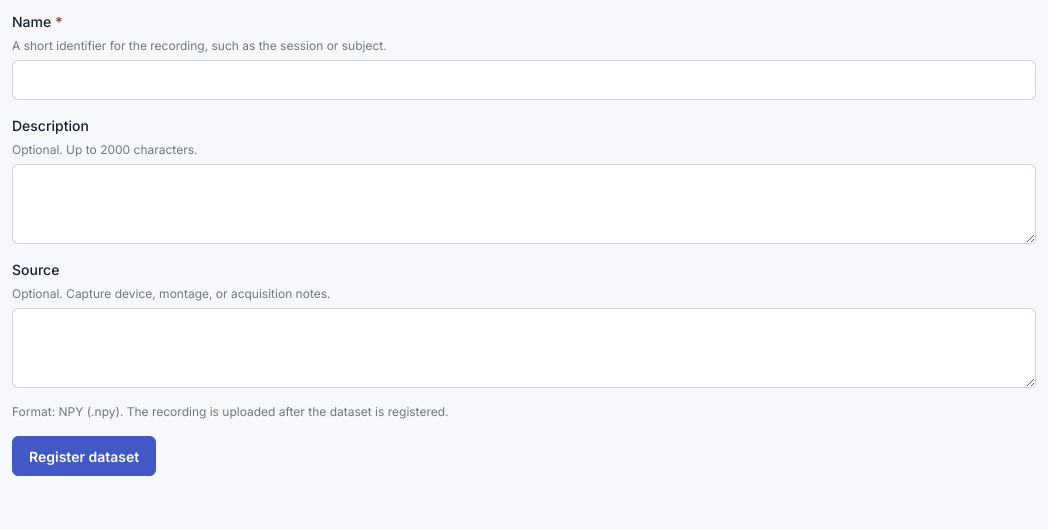
Scenario: DatasetForm › surfaces a registration failure
Type "Recording 1" into the field labelled "Name*" at point(524, 80), box [12, 60, 1036, 100]
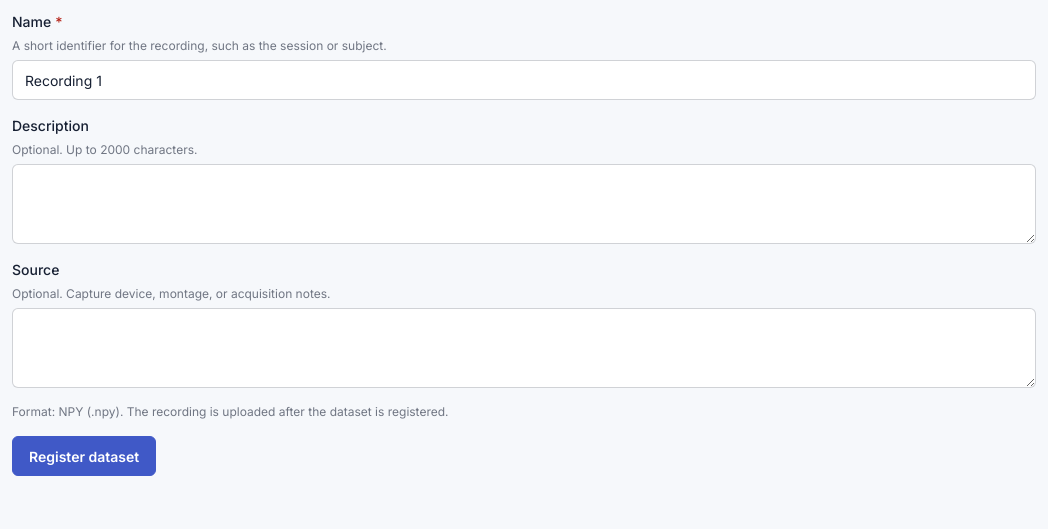
Submit the form named "Register dataset"
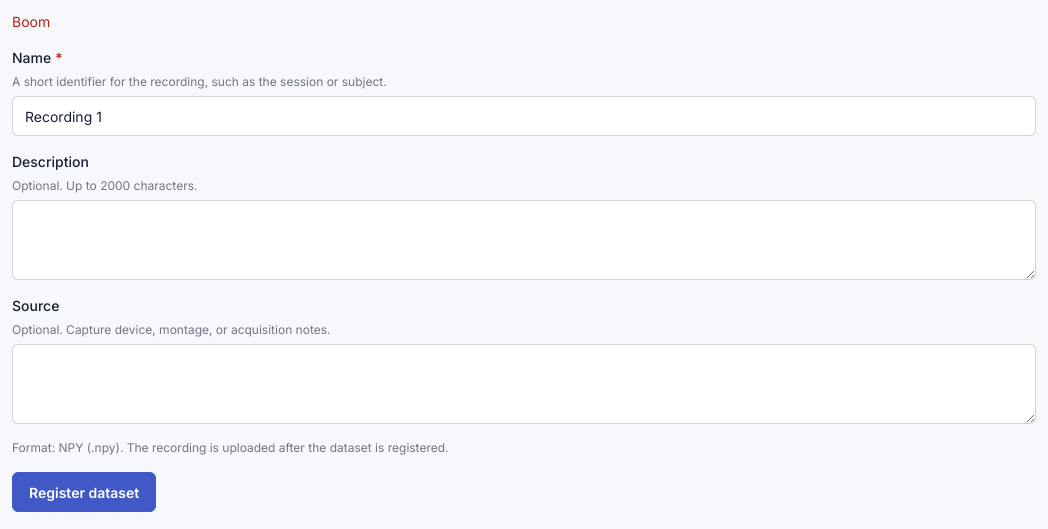
expect the message reads "Boom": met, box [12, 13, 50, 30]
